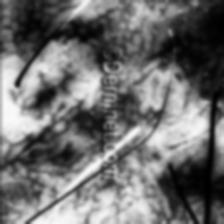Potentially Malignant Skin Tumors: (0, 38, 203, 138)
